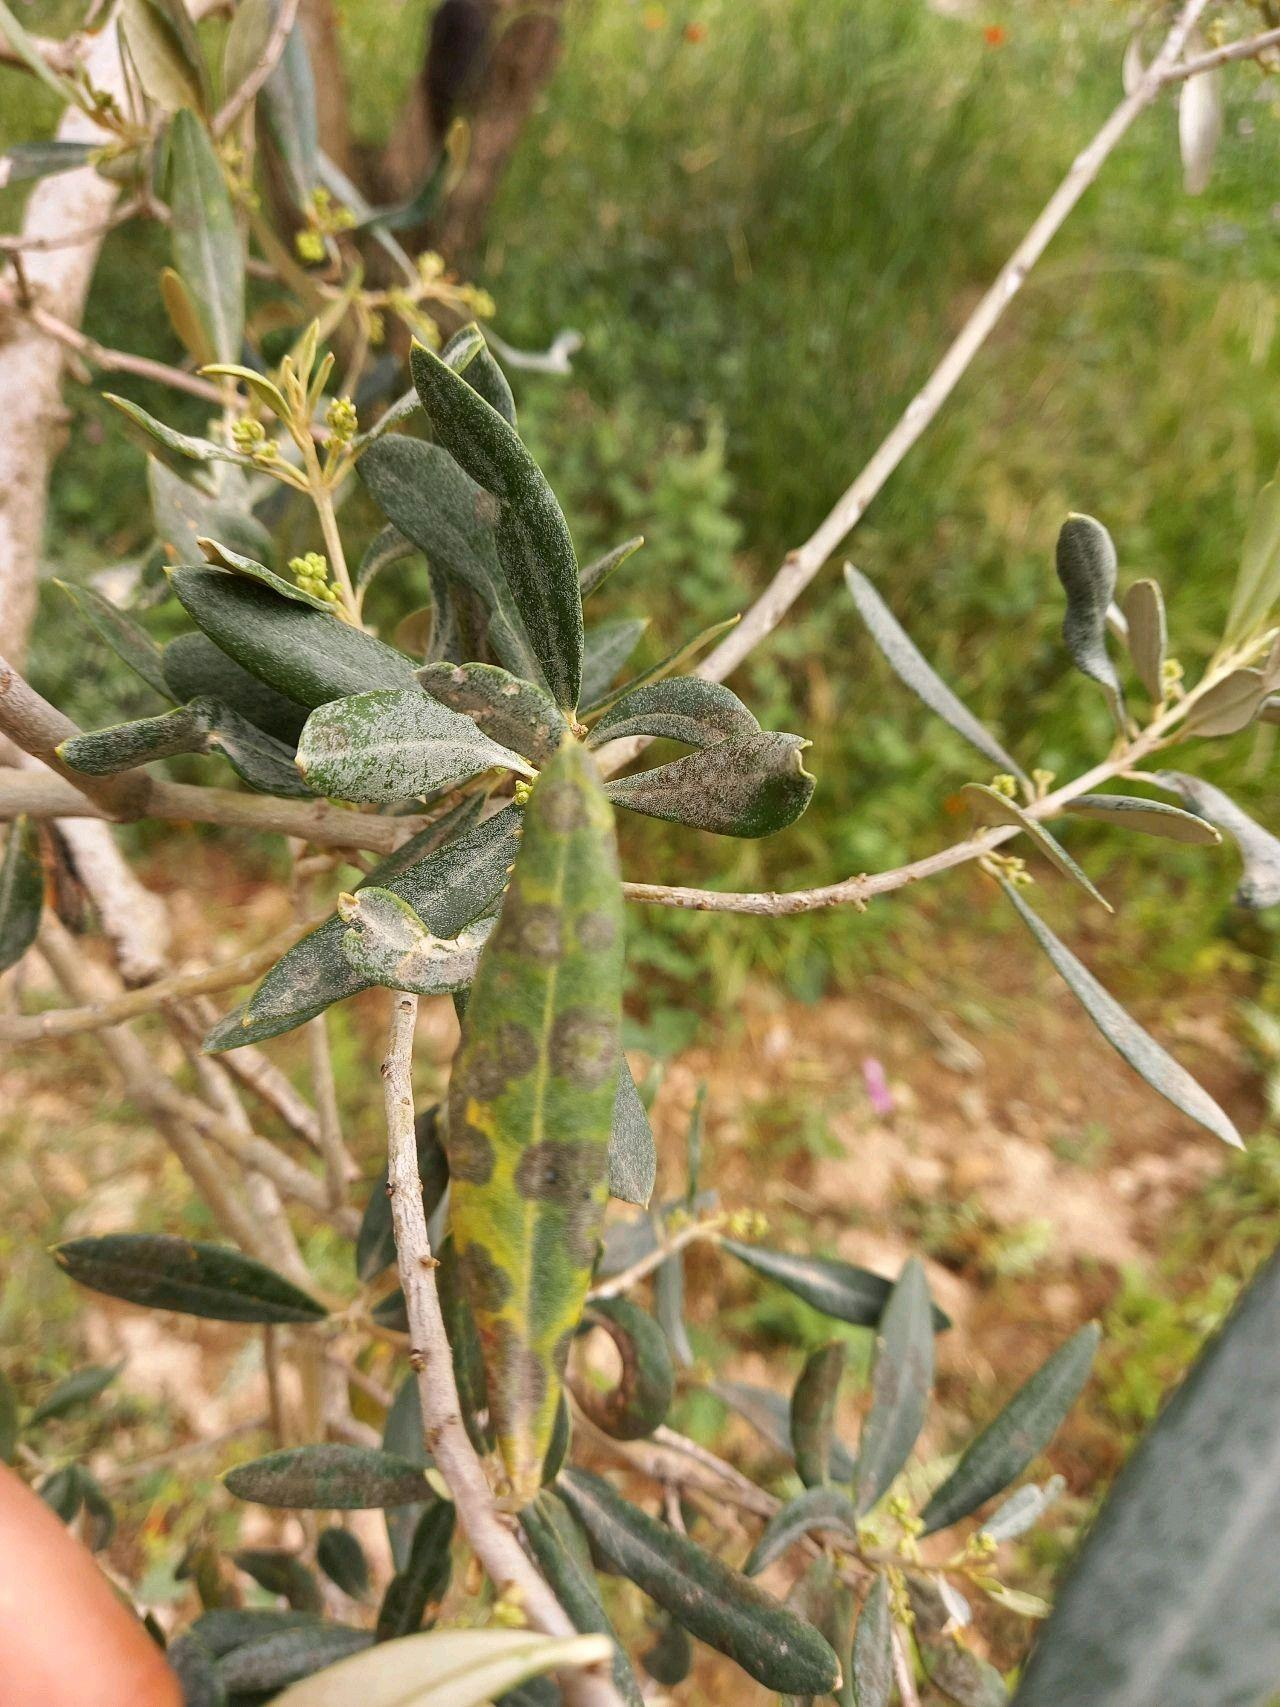OlivePeacockSpot: (415, 716, 692, 1495), (355, 435, 550, 681), (50, 1230, 319, 1331), (847, 1263, 944, 1515), (606, 720, 809, 840), (222, 1445, 418, 1512), (791, 1339, 846, 1488)
